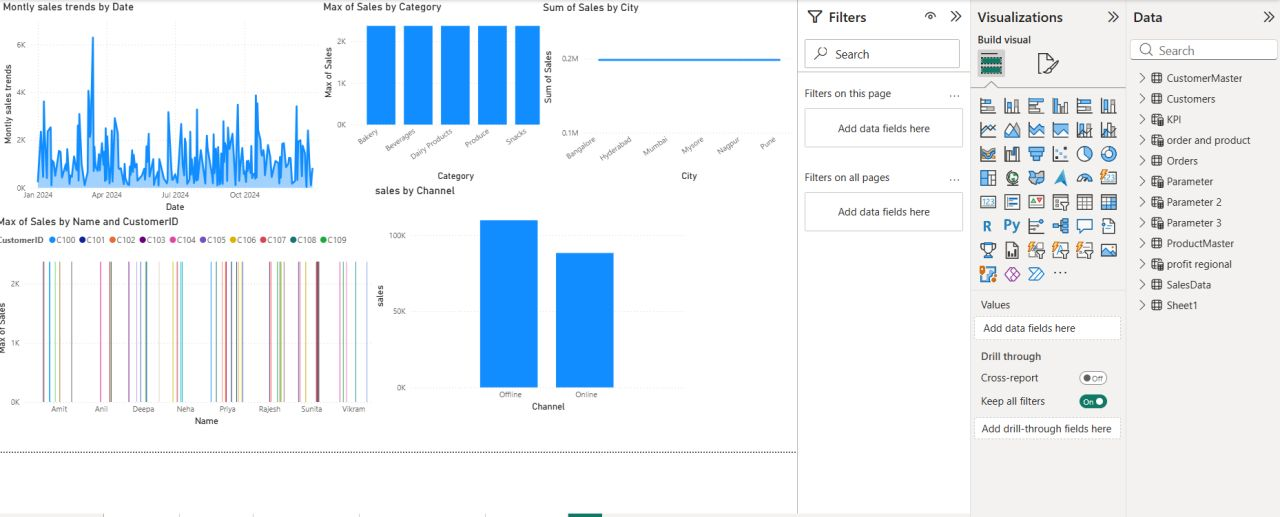

This screenshot's page, from the dashboard's own definition file:
{"tool":"powerbi","page":{"name":"file work","canvas":[1280,720],"ordinal":0},"visuals":[{"type":"stackedAreaChart","fields":{"Y":["SalesData.Sum of Profit plus Sum of Sales"],"Category":["SalesData.Date"]},"box":[10,0,527.4,343.5],"z":0},{"type":"columnChart","fields":{"Category":["ProductMaster.Category"],"Y":["Max(SalesData.Sales)"]},"box":[520.1,0,387,293.7],"z":1000},{"type":"lineChart","fields":{"Category":["CustomerMaster.City"],"Y":["Sum(SalesData.Sales)"]},"box":[870,1.4,410.3,292.3],"z":2000},{"type":"clusteredColumnChart","fields":{"Category":["CustomerMaster.Name"],"Series":["CustomerMaster.CustomerID"],"Y":["Max(SalesData.Sales)"]},"box":[0,343.1,632.6,341.7],"z":3000},{"type":"lineClusteredColumnComboChart","fields":{"Category":["SalesData.Channel"],"Y":["Sum(SalesData.Sales)"]},"box":[602.9,294.2,504.3,368.1],"z":4000}]}

Visuals, with their boxes on the page's 1280x720 design canvas (x1, y1, x2, y2). These are canvas units, not pixel positions in the 1280x517 screenshot, which may show the page scaled, cropped or inside an application window:
stackedAreaChart - SalesData.Sum of Profit plus Sum of Sales x SalesData.Date: rect(10, 0, 537, 344)
columnChart - ProductMaster.Category x Max(SalesData.Sales): rect(520, 0, 907, 294)
lineChart - CustomerMaster.City x Sum(SalesData.Sales): rect(870, 1, 1280, 294)
clusteredColumnChart - CustomerMaster.Name x CustomerMaster.CustomerID: rect(0, 343, 633, 685)
lineClusteredColumnComboChart - SalesData.Channel x Sum(SalesData.Sales): rect(603, 294, 1107, 662)
